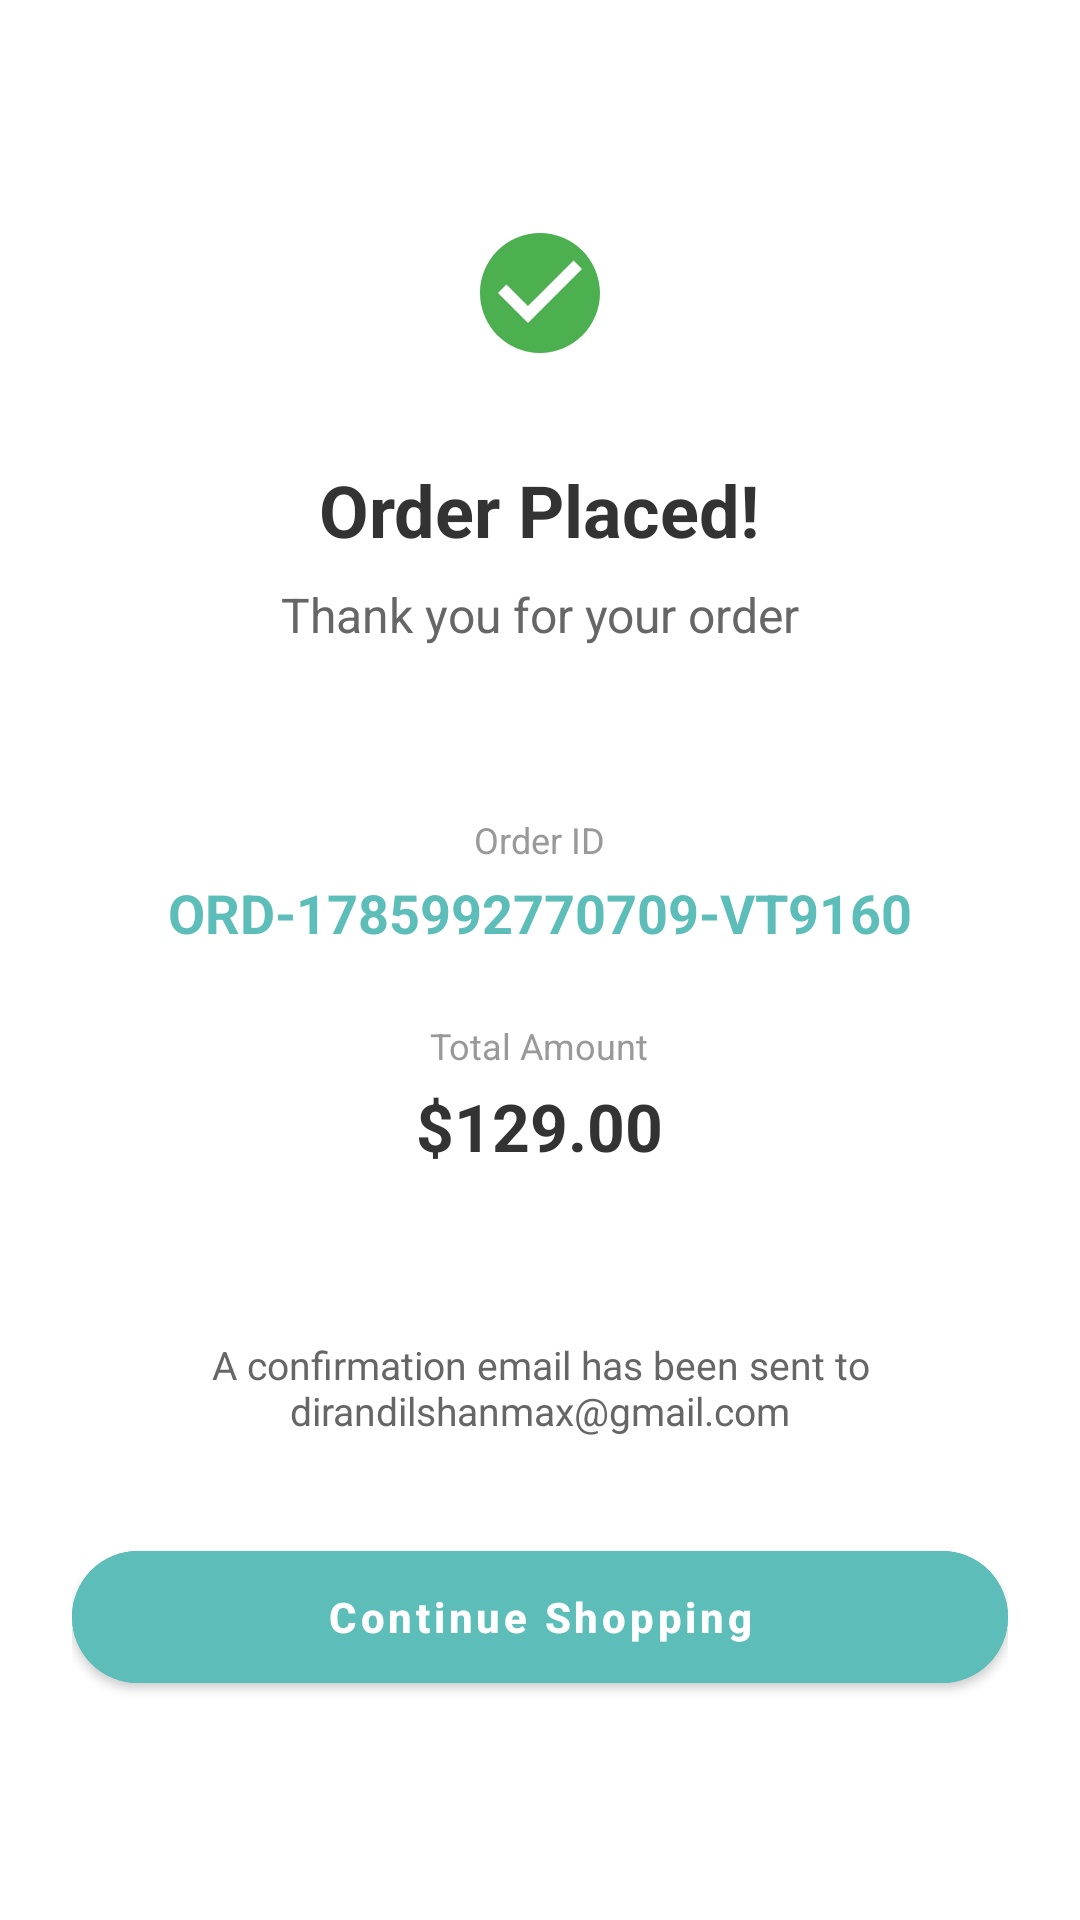

Screen size 1080x1920. Icon name, then its box in pixels as (x1, y1, x2, y2):
check circle: (480, 233, 600, 353)
